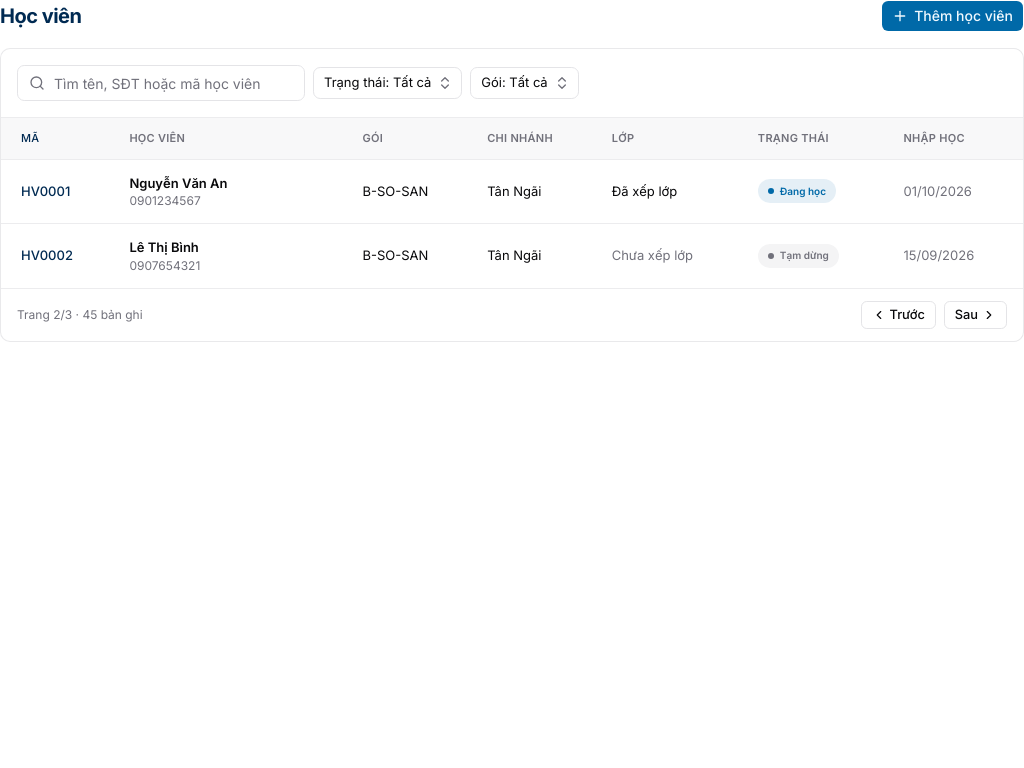
Test case: StudentList › thêm học viên: thiếu tên/SĐT/gói báo lỗi tại ô
The image size is (1024, 768).
Step 1. Click the button "Thêm học viên" → click(953, 16), box 881,0 -> 1023,32
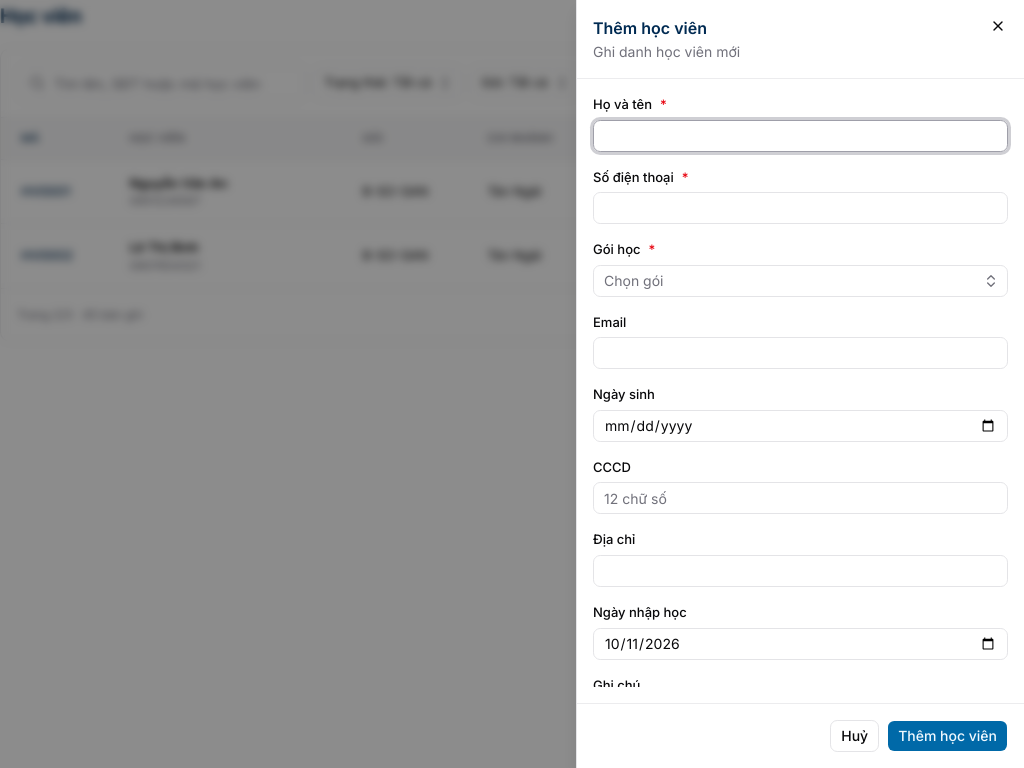
Step 2. Click the button "Thêm học viên" → click(948, 736), box 887,720 -> 1008,752
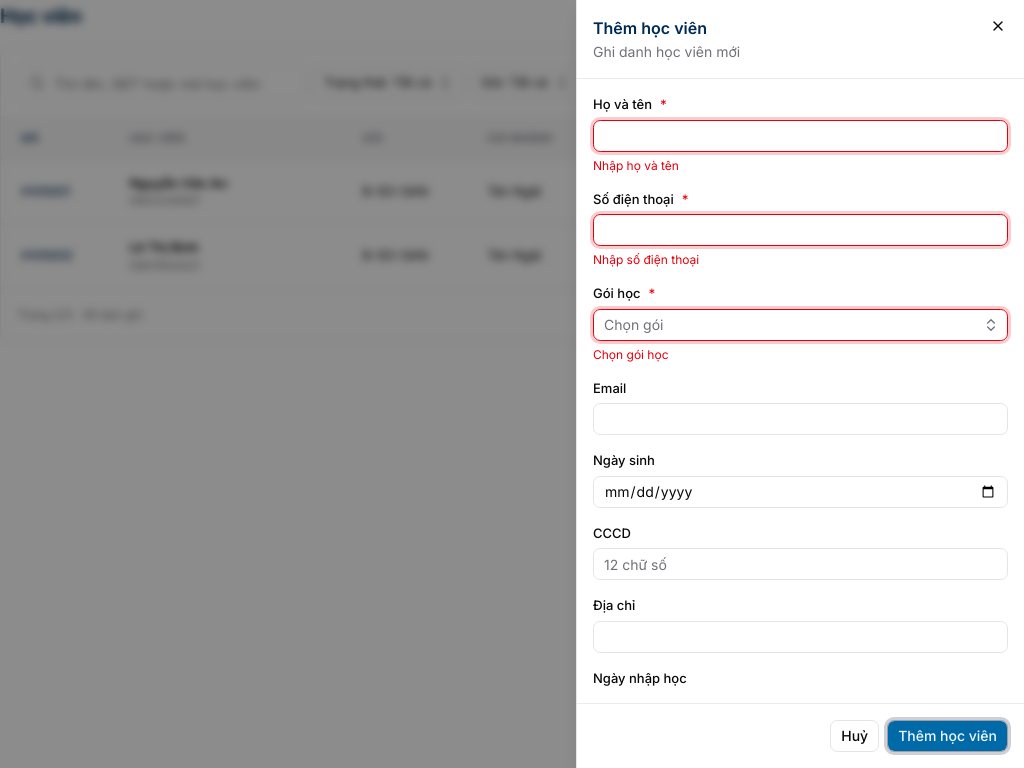
Now the text "Nhập họ và tên" is shown, box 593,158 -> 679,173
Now the text "Nhập số điện thoại" is shown, box 593,252 -> 699,267
Now the text "Chọn gói học" is shown, box 593,347 -> 668,362
